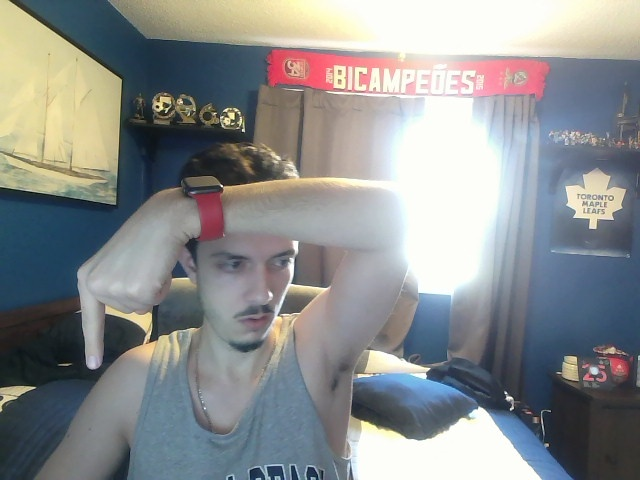Down: (75, 191, 188, 371)
